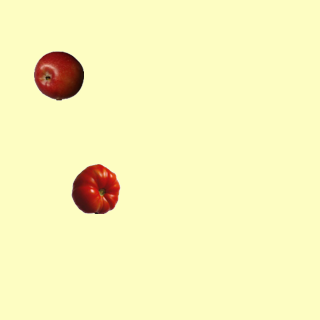Apple Braeburn: (33, 50, 83, 100)
Tomato 3: (70, 163, 120, 213)
